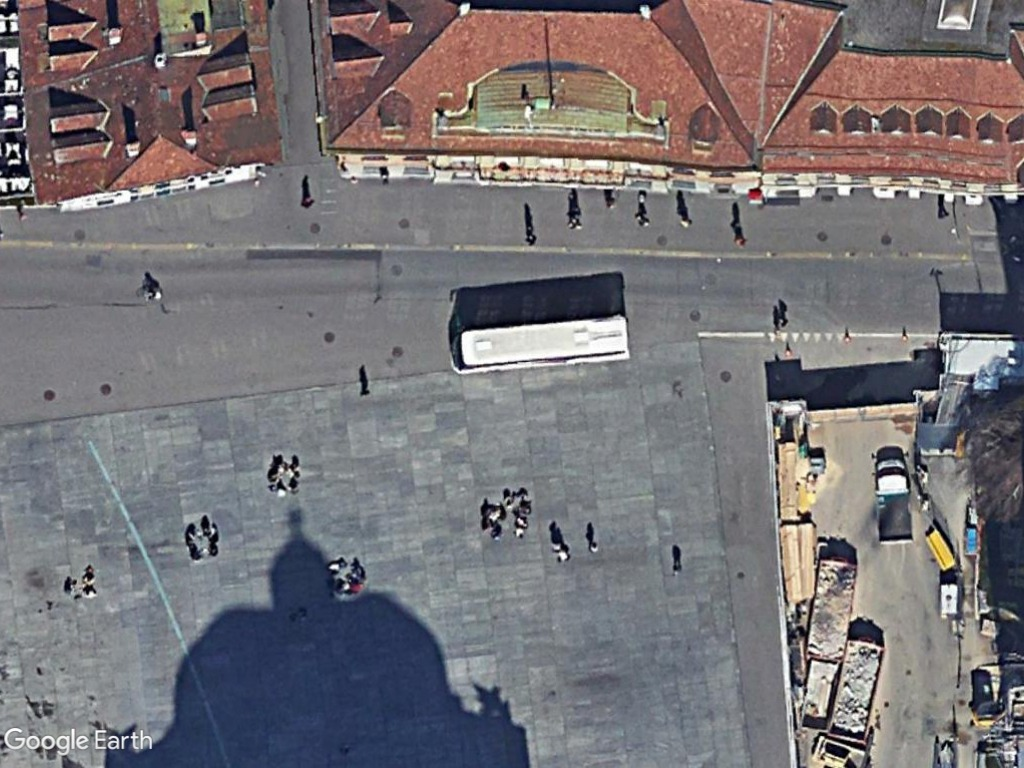bus: (448, 313, 635, 379)
